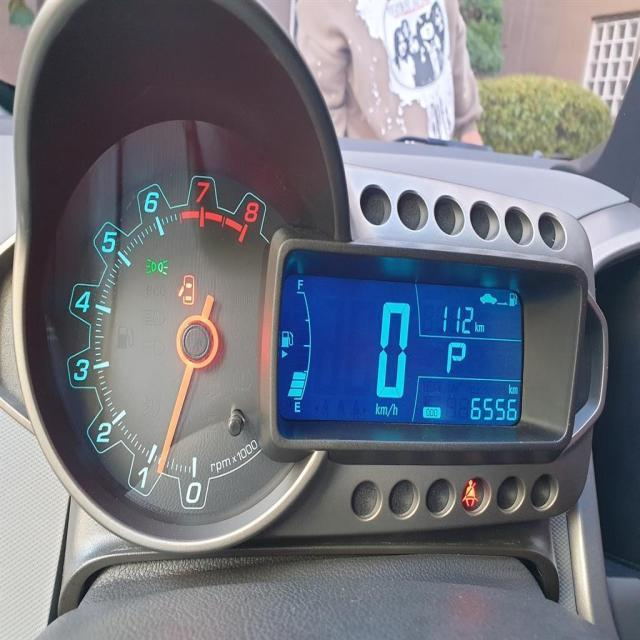Doors: (177, 273, 194, 305)
SideLamp: (144, 256, 168, 276)
